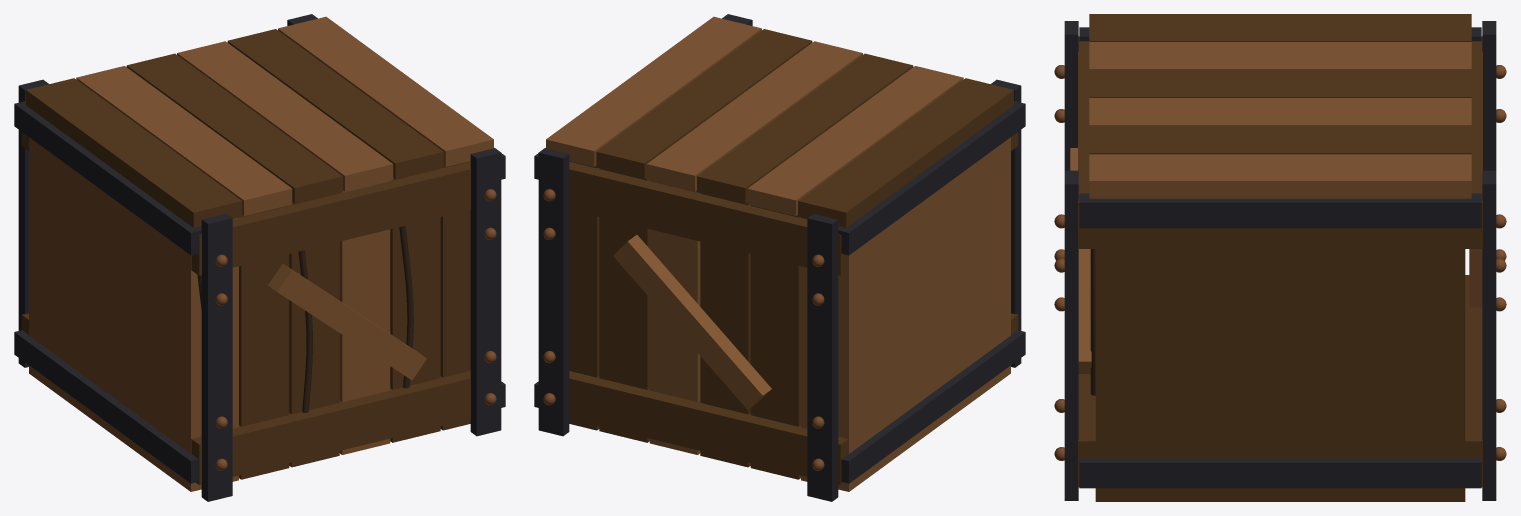
The model's file is mia-crate.glb.
The picture shows the model from 3 angles, left to right: view 1: azimuth 30°, elevation 25°; view 2: azimuth 150°, elevation 25°; view 3: azimuth 270°, elevation 25°; orthographic projection. The views are drawn at different scales.
Visible parts, largest first — view 1: Body_wood, Body_oak, Body_iron, Body_grain, Body_rust; view 2: Body_wood, Body_oak, Body_iron, Body_rust; view 3: Body_wood, Body_oak, Body_iron, Body_rust, Body_grain.
Part boxes in pixels (x1=…): Body_wood: x1=21, y1=29, x2=470, y2=484; Body_oak: x1=29, y1=16, x2=493, y2=491; Body_iron: x1=14, y1=14, x2=505, y2=501; Body_grain: x1=197, y1=225, x2=413, y2=436; Body_rust: x1=215, y1=189, x2=496, y2=470; Body_wood: x1=569, y1=29, x2=1018, y2=484; Body_oak: x1=546, y1=16, x2=1010, y2=491; Body_iron: x1=534, y1=14, x2=1025, y2=501; Body_rust: x1=543, y1=189, x2=824, y2=470; Body_wood: x1=1078, y1=14, x2=1482, y2=501; Body_oak: x1=1070, y1=42, x2=1482, y2=373; Body_iron: x1=1064, y1=21, x2=1496, y2=500; Body_rust: x1=1054, y1=65, x2=1506, y2=460; Body_grain: x1=1090, y1=249, x2=1095, y2=395.
Size of the model in its own units: 0.937 by 0.8025 by 1.02.
